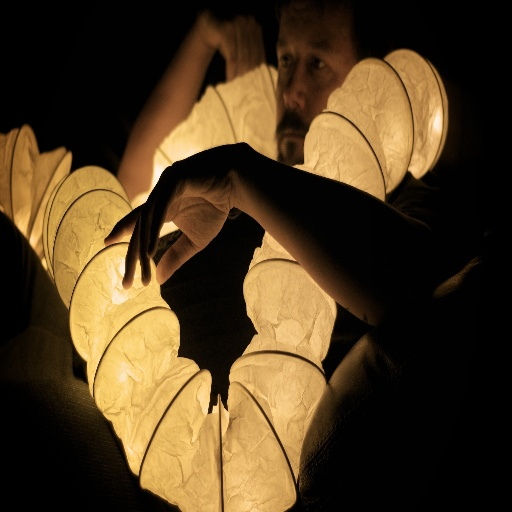hand: (104, 139, 338, 301), (194, 13, 267, 80)
